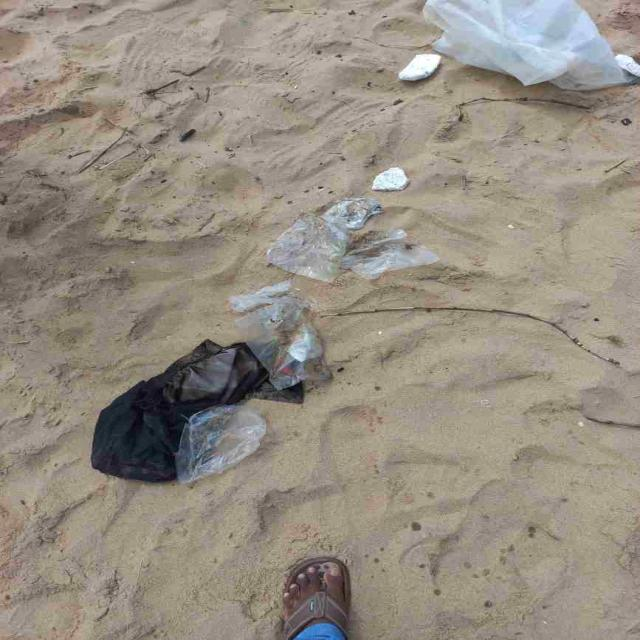dep: (283, 558, 351, 640)
nhua: (91, 349, 265, 481), (424, 0, 637, 89), (266, 197, 439, 282), (230, 282, 323, 390), (399, 53, 441, 80)
xop: (372, 167, 409, 191)
